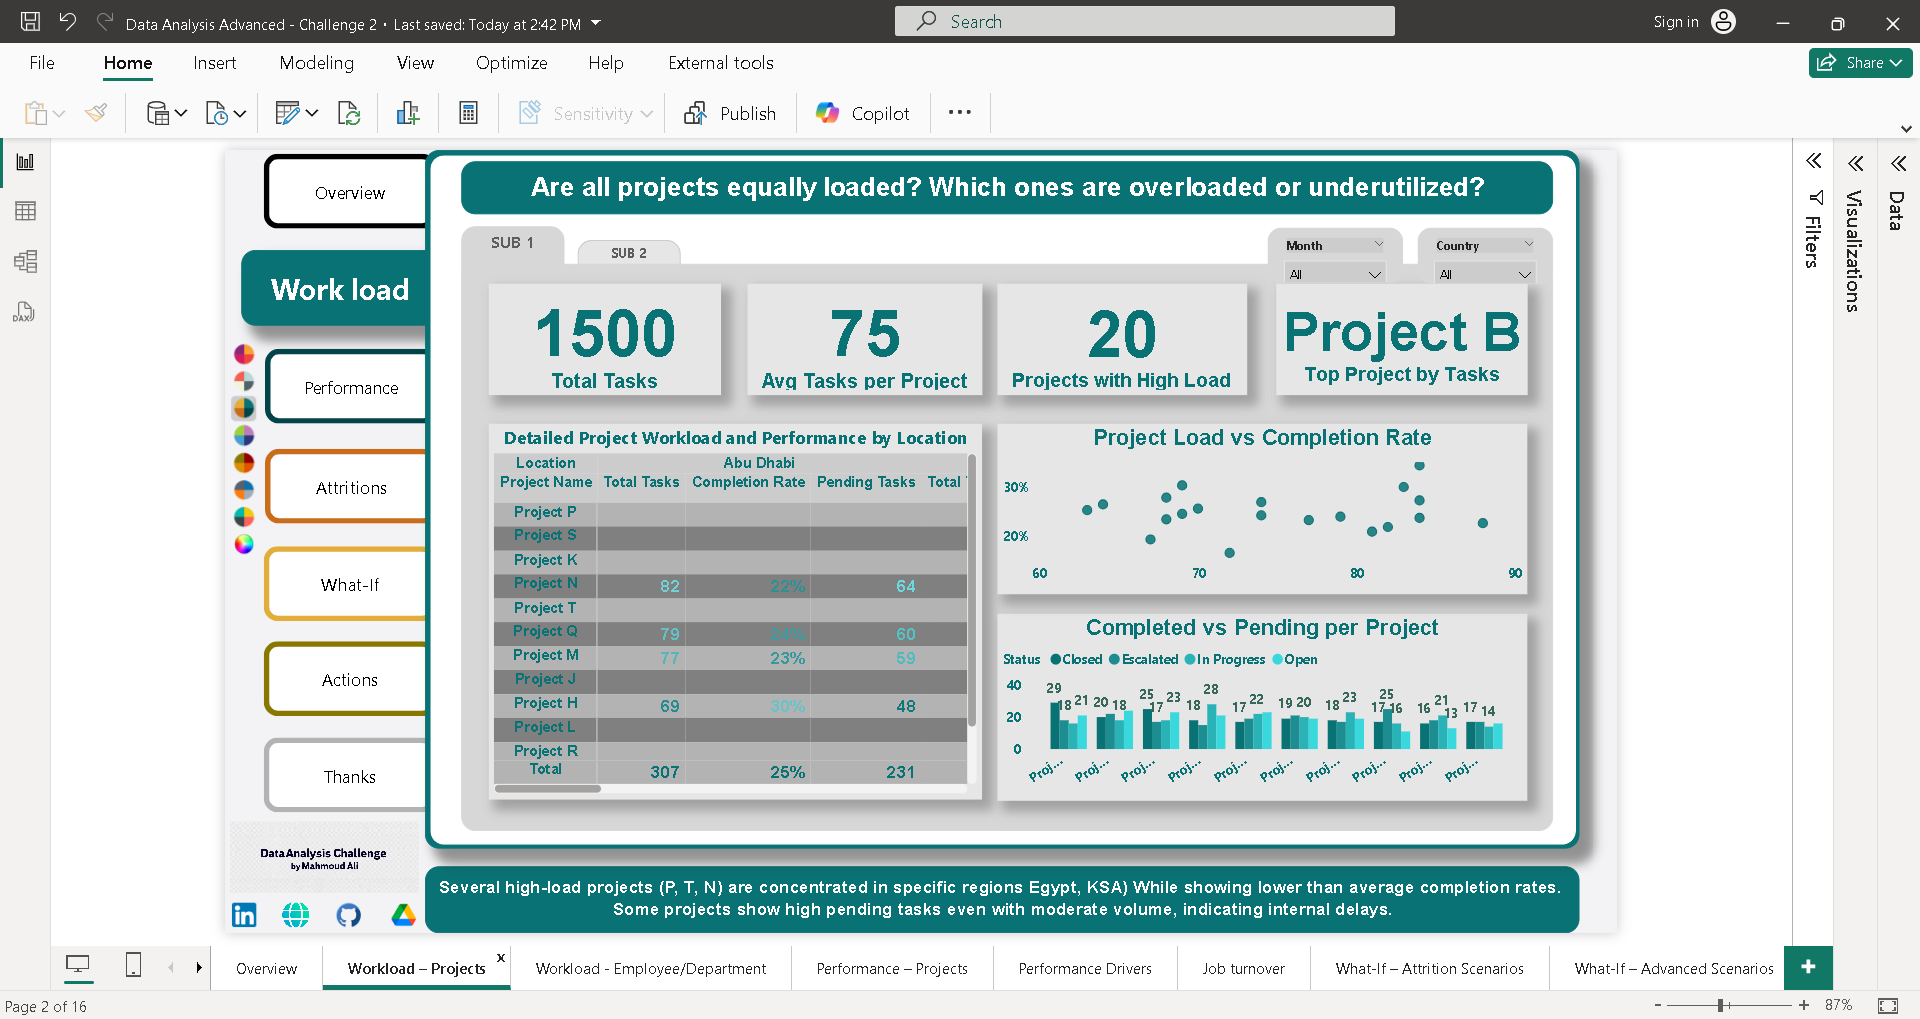

Layout of this report page (visuals, bound fields, positions):
{"tool":"powerbi","page":{"name":"Workload – Projects","canvas":[1280,720],"ordinal":1},"visuals":[{"type":"ChicletSlicer1448559807354","fields":{"Category":["Sheet1.Color Scheme"],"Image":["Sheet1.URL"]},"box":[0,169.8,34.9,239.5],"z":0},{"type":"image","box":[0,687.5,35,32.5],"z":1000},{"type":"image","box":[47.5,687.5,36.2,32.5],"z":2000},{"type":"image","box":[90,687.5,48.8,32.5],"z":3000},{"type":"image","box":[146.2,687.5,37.5,32.5],"z":4000},{"type":"image","box":[0,612.5,183.8,75],"z":5000},{"type":"textbox","box":[183.7,659,1062,61.2],"z":6000},{"type":"actionButton","title":"Button","box":[36.7,274.4,158.9,68.9],"z":7000},{"type":"actionButton","title":"Button","box":[35.6,364.4,158.9,68.9],"z":8000},{"type":"actionButton","box":[36.7,182.2,158.9,68.9],"z":9000},{"type":"actionButton","title":"Button","box":[15.1,91.9,180.2,69.8],"z":10000},{"type":"actionButton","title":"Button","box":[35.6,3.3,158.9,68.9],"z":11000},{"type":"actionButton","title":"Button","box":[35.6,452.2,158.9,68.9],"z":12000},{"type":"actionButton","title":"Button","box":[35.6,540,158.9,68.9],"z":13000},{"type":"actionButton","box":[183.7,0,1062,642.3],"z":14000},{"type":"actionButton","box":[323.8,82.5,95,57.5],"z":15000},{"type":"basicShape","box":[217.5,105,1003.8,521.2],"z":16000},{"type":"actionButton","box":[217.5,70,95,57.5],"z":17000},{"type":"card","fields":{"Values":["Measures Table.Total Tasks"]},"box":[242.5,122.5,213.8,102.5],"z":18000},{"type":"card","fields":{"Values":["Measures Table.Avg Tasks per Project"]},"box":[480,122.5,216.2,102.5],"z":19000},{"type":"card","fields":{"Values":["Measures Table.Projects with High Load"]},"box":[710.3,122.8,229.2,102.7],"z":20000},{"type":"card","fields":{"Values":["Measures Table.Top Project by Tasks"]},"box":[966.2,122.5,231.2,102.5],"z":21000},{"type":"pivotTable","title":"Detailed Project Workload and Performance by Location","fields":{"Rows":["Advanced_Projects.Project Name"],"Values":["Measures Table.Total Tasks","Measures Table.Completion Rate","Measures Table.Pending Tasks"],"Columns":["Advanced_Projects.Location"]},"box":[243,251.6,453.9,345.3],"z":22000},{"type":"clusteredColumnChart","title":"Completed vs Pending per Project","fields":{"Category":["Advanced_Projects.Project Name"],"Y":["Measures Table.Total Tasks"],"Series":["Advanced_Tasks.Status"]},"box":[710.3,425.9,487.3,171.6],"z":23000},{"type":"slicer","fields":{"Values":["Advanced_Employees.Country"]},"box":[1096.5,70.9,124.4,52.3],"z":24000},{"type":"slicer","fields":{"Values":["Advanced_Employees.Date of Joining.Variation.Date Hierarchy.Month"]},"box":[958.1,70.9,124.4,51.2],"z":25000},{"type":"scatterChart","title":"Project Load vs Completion Rate","fields":{"Category":["Advanced_Projects.Project Name"],"Y":["Measures Table.Task Completion Rate (%)"],"X":["Measures Table.Total Tasks"]},"box":[710.3,251.8,487.3,156.6],"z":26000},{"type":"textbox","box":[217.5,10,1003.8,48.8],"z":27000}]}

Visuals, with their boxes on the page's 1280x720 design canvas (x1, y1, x2, y2). These are canvas units, not pixel positions in the 1920x1019 screenshot, which may show the page scaled, cropped or inside an application window:
ChicletSlicer1448559807354 - Sheet1.Color Scheme x Sheet1.URL: bbox=(0, 170, 35, 409)
image: bbox=(0, 688, 35, 720)
image: bbox=(48, 688, 84, 720)
image: bbox=(90, 688, 139, 720)
image: bbox=(146, 688, 184, 720)
image: bbox=(0, 612, 184, 688)
textbox: bbox=(184, 659, 1246, 720)
"Button" actionButton: bbox=(37, 274, 196, 343)
"Button" actionButton: bbox=(36, 364, 194, 433)
actionButton: bbox=(37, 182, 196, 251)
"Button" actionButton: bbox=(15, 92, 195, 162)
"Button" actionButton: bbox=(36, 3, 194, 72)
"Button" actionButton: bbox=(36, 452, 194, 521)
"Button" actionButton: bbox=(36, 540, 194, 609)
actionButton: bbox=(184, 0, 1246, 642)
actionButton: bbox=(324, 82, 419, 140)
basicShape: bbox=(218, 105, 1221, 626)
actionButton: bbox=(218, 70, 312, 128)
card - Measures Table.Total Tasks: bbox=(242, 122, 456, 225)
card - Measures Table.Avg Tasks per Project: bbox=(480, 122, 696, 225)
card - Measures Table.Projects with High Load: bbox=(710, 123, 940, 226)
card - Measures Table.Top Project by Tasks: bbox=(966, 122, 1197, 225)
"Detailed Project Workload and Performance by Location" pivotTable: bbox=(243, 252, 697, 597)
"Completed vs Pending per Project" clusteredColumnChart: bbox=(710, 426, 1198, 598)
slicer - Advanced_Employees.Country: bbox=(1096, 71, 1221, 123)
slicer - Advanced_Employees.Date of Joining.Variation.Date Hierarchy.Month: bbox=(958, 71, 1082, 122)
"Project Load vs Completion Rate" scatterChart: bbox=(710, 252, 1198, 408)
textbox: bbox=(218, 10, 1221, 59)
